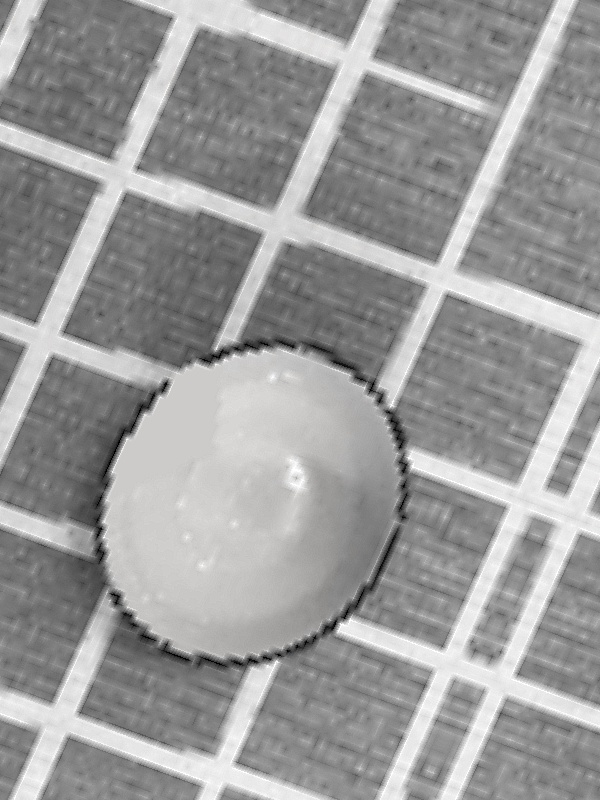bowl_small: (28, 285, 471, 723)
